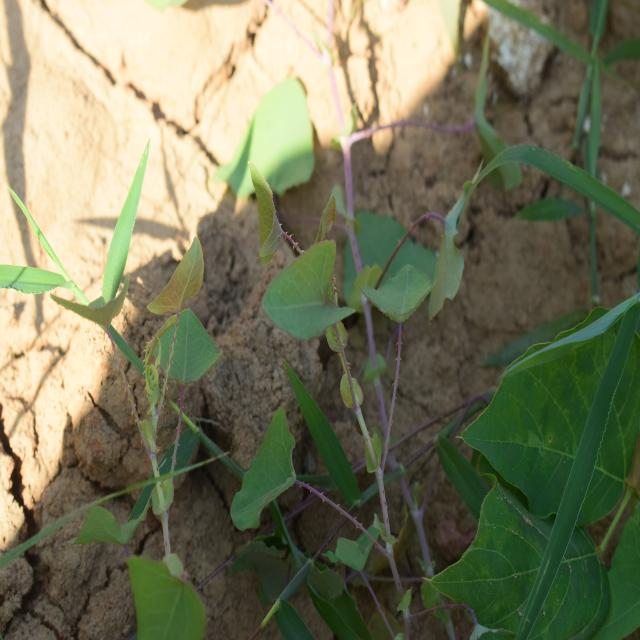Asiatic_Smartweed: (219, 165, 430, 543), (72, 265, 224, 614)
